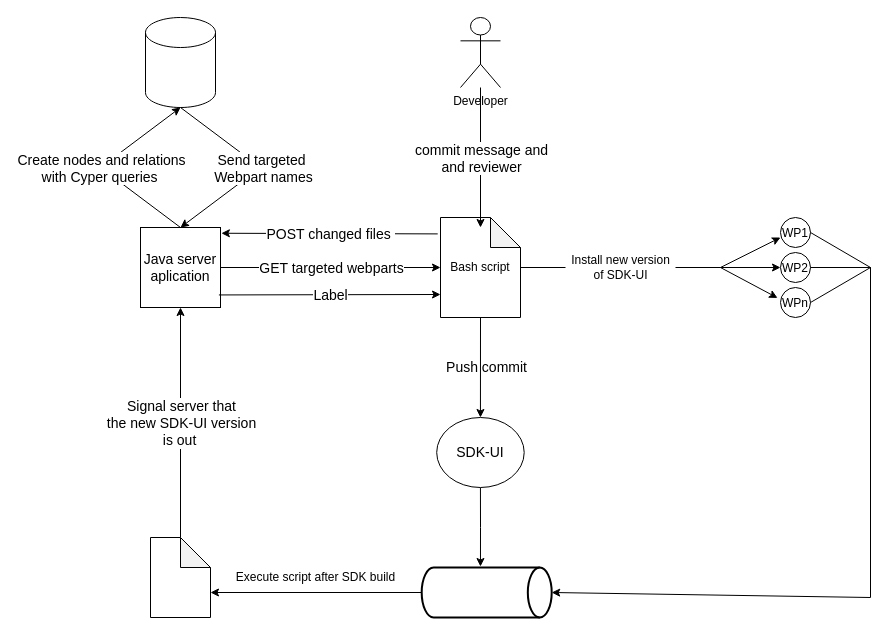
This 896x636 diagram has some shape labels left out. Here are the shapes that lost their labels. From the top down, the box of each, then its label:
(144, 16, 216, 108): Neo4j Graph Database
(150, 536, 210, 618): Script placed as final task in Azure pipeline
(420, 566, 552, 618): Azure Pipelines
